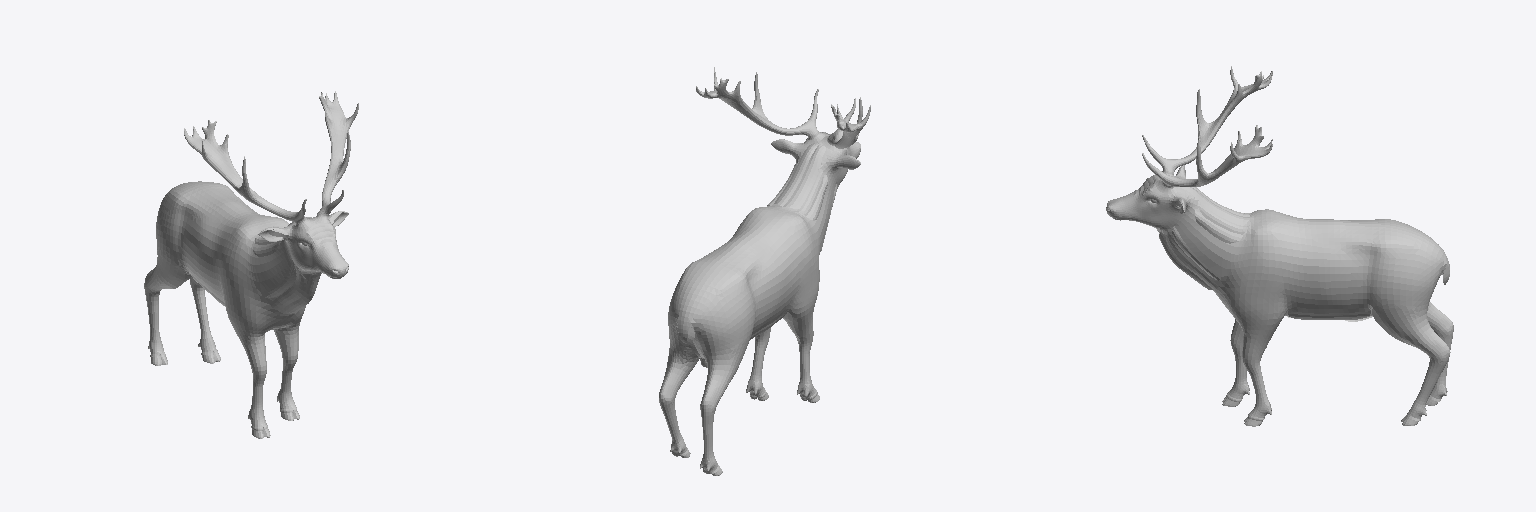
Rendered from frame_0029_uv.obj.
The picture shows the model from 3 angles: view 1: azimuth 30°, elevation 25°; view 2: azimuth 150°, elevation 25°; view 3: azimuth 270°, elevation 25°; orthographic projection.
Visible parts, largest first — view 1: pMesh1; view 2: pMesh1; view 3: pMesh1.
Boxes of the visible parts, box(x1,y1,x2,y2) form: pMesh1: box(144, 91, 358, 438); pMesh1: box(659, 67, 870, 475); pMesh1: box(1106, 66, 1453, 426).
Size of the model in its own units: 1.05 by 2.01 by 2.01.